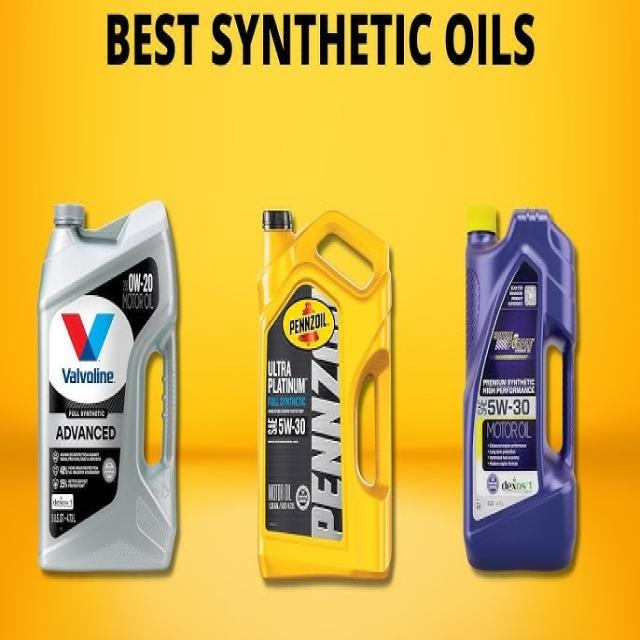motor_oil: (258, 194, 402, 593), (35, 196, 184, 581), (462, 197, 583, 583)
